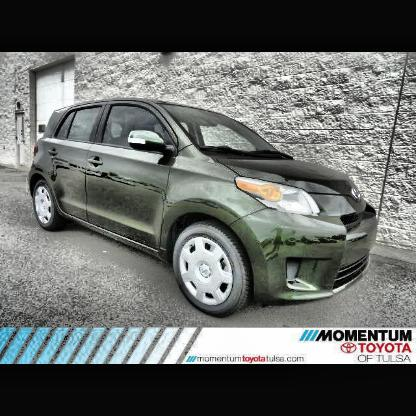Scion xD Hatchback 2012: (28, 100, 380, 319)
